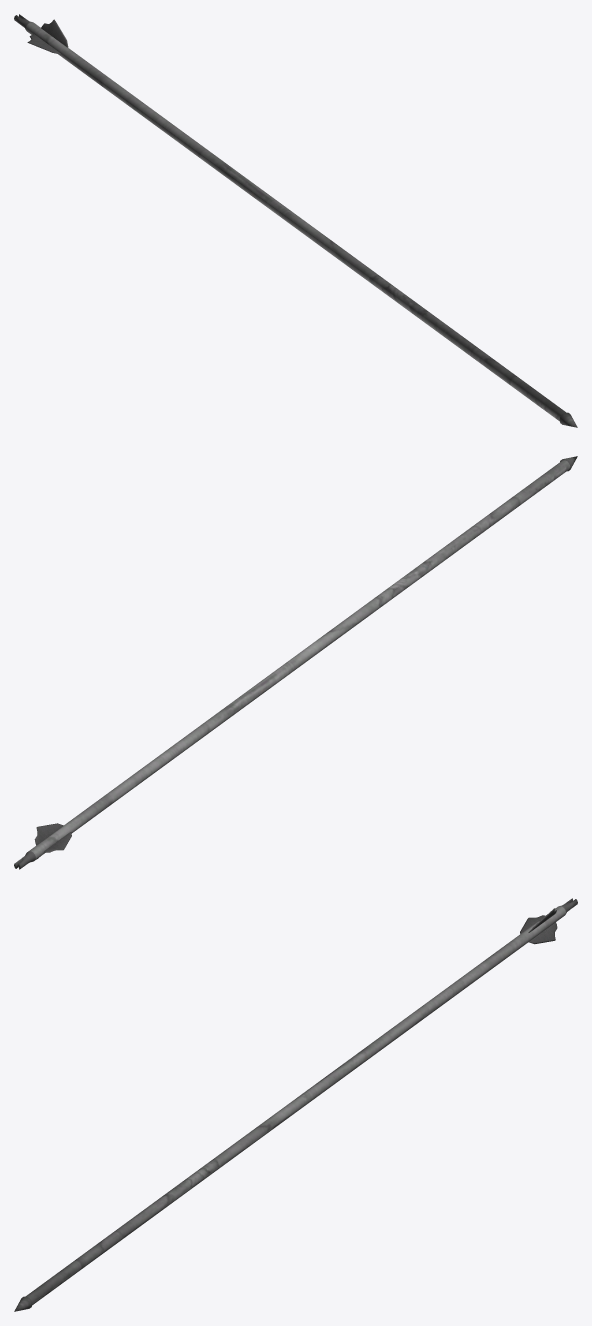
File: Weapons_Arrow01_LOD0.glb
3 views of the same model, one above another, from view 1: azimuth 30°, elevation 25°; view 2: azimuth 150°, elevation 25°; view 3: azimuth 330°, elevation 25° (orthographic).
Parts seen in each view (by area): view 1: Hoodie; view 2: Hoodie; view 3: Hoodie.
Boxes of the visible parts, x1,y1,x2,y2 form: Hoodie: [14, 14, 577, 427]; Hoodie: [14, 456, 577, 869]; Hoodie: [14, 898, 577, 1311].
Bounding box in the file's own units: 0.0225 × 0.0259 × 0.8063.
Materials: 1 (1 with a texture image).
